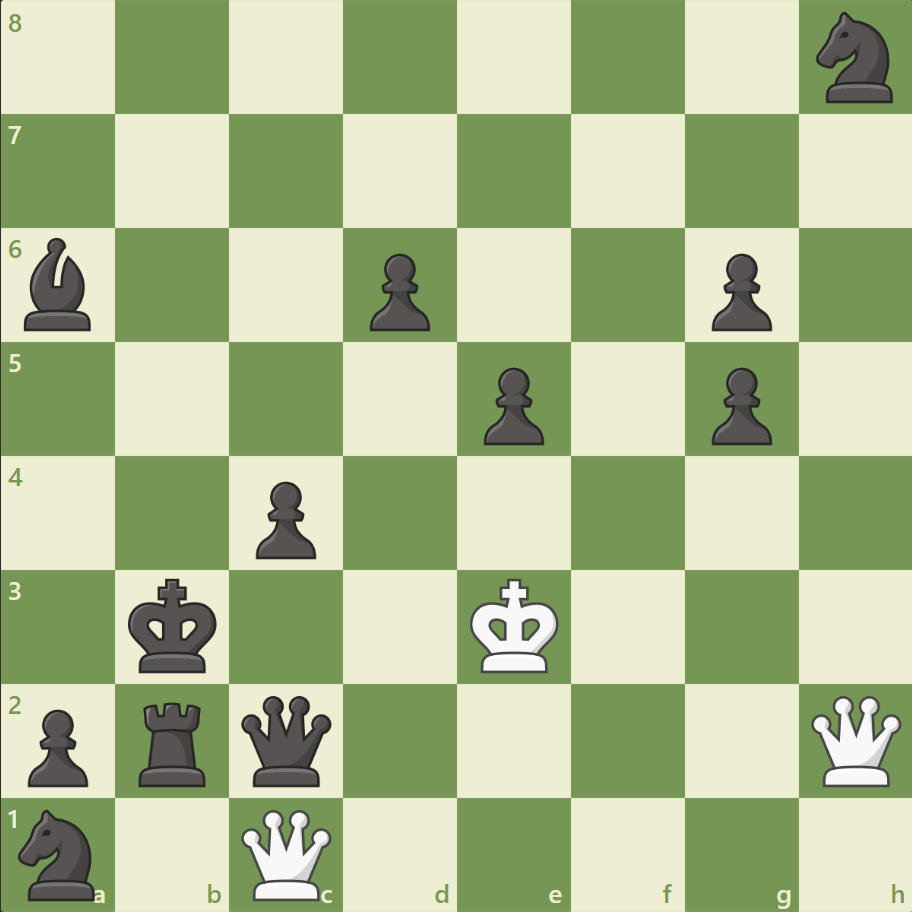K: (465, 571, 565, 679)
Q: (805, 690, 904, 789), (237, 804, 336, 903)
b: (17, 233, 101, 336)
k: (124, 571, 224, 679)
n: (806, 7, 903, 110), (11, 802, 108, 904)
p: (701, 246, 776, 337), (474, 359, 549, 450), (701, 359, 776, 450), (247, 473, 322, 564), (20, 700, 95, 791), (361, 246, 435, 337)
q: (237, 690, 336, 789)
r: (133, 693, 215, 790)
